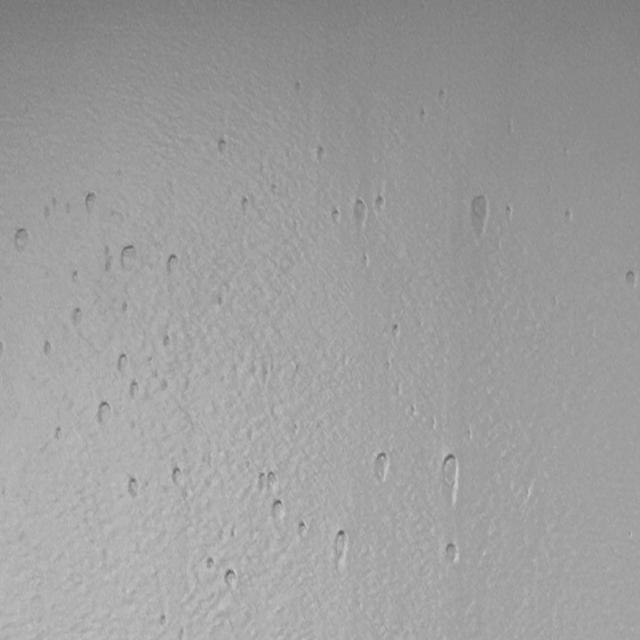pin holes: (436, 450, 464, 503), (466, 193, 491, 236), (330, 530, 351, 565), (371, 451, 392, 484), (116, 242, 140, 270), (10, 225, 32, 255), (94, 400, 115, 429), (353, 198, 373, 227), (255, 469, 278, 494), (268, 499, 288, 526), (123, 475, 143, 502), (442, 540, 462, 566), (220, 567, 240, 592), (169, 463, 188, 489), (115, 352, 133, 379), (82, 191, 100, 217), (165, 252, 183, 275), (623, 269, 640, 293), (327, 204, 343, 229), (68, 306, 86, 328), (126, 380, 144, 402), (158, 332, 176, 354), (214, 286, 231, 309), (260, 364, 274, 390), (41, 338, 58, 359), (312, 144, 328, 166), (288, 420, 304, 442), (101, 247, 116, 270), (216, 136, 232, 156), (297, 518, 310, 540), (238, 194, 253, 213), (362, 250, 374, 272), (0, 339, 10, 365), (202, 556, 216, 574), (52, 426, 66, 443), (374, 194, 387, 212), (436, 88, 449, 106), (564, 208, 577, 226), (392, 323, 404, 341), (69, 270, 82, 286), (417, 108, 429, 125), (293, 79, 305, 96), (156, 611, 168, 628), (160, 375, 170, 395), (177, 622, 188, 640), (121, 300, 133, 316), (506, 202, 516, 220), (408, 402, 416, 421), (43, 203, 52, 218), (51, 195, 58, 210), (64, 200, 71, 215), (146, 354, 154, 363)
